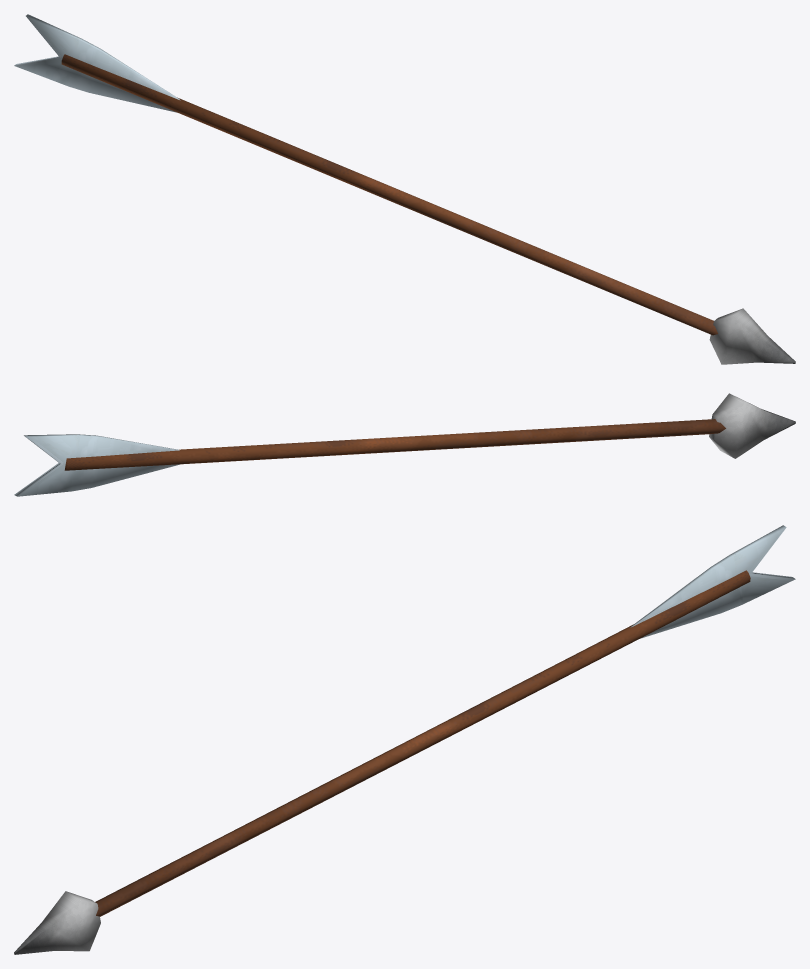
The model's file is Arrow.glb.
3 views of the same model, one above another, from view 1: azimuth 90°, elevation 25°; view 2: azimuth 150°, elevation 25°; view 3: azimuth 330°, elevation 25° (orthographic). The views are drawn at different scales.
Visible parts, largest first — view 1: Arrow; view 2: Arrow; view 3: Arrow.
Part boxes in pixels (<box>): Arrow: <box>14,14,795,364</box>; Arrow: <box>14,393,795,496</box>; Arrow: <box>14,525,795,954</box>.
Bounding box in the file's own units: 1.64 × 0.9609 × 3.37.
3 materials, 3 textured.
